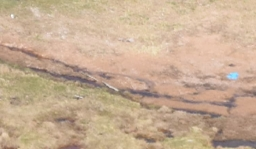white_in_green: (213, 59, 250, 94), (1, 1, 31, 31)
